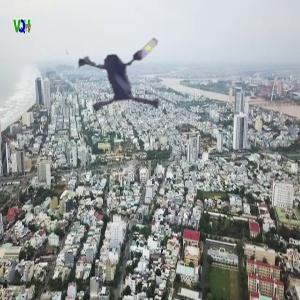drone: (66, 10, 195, 139)
